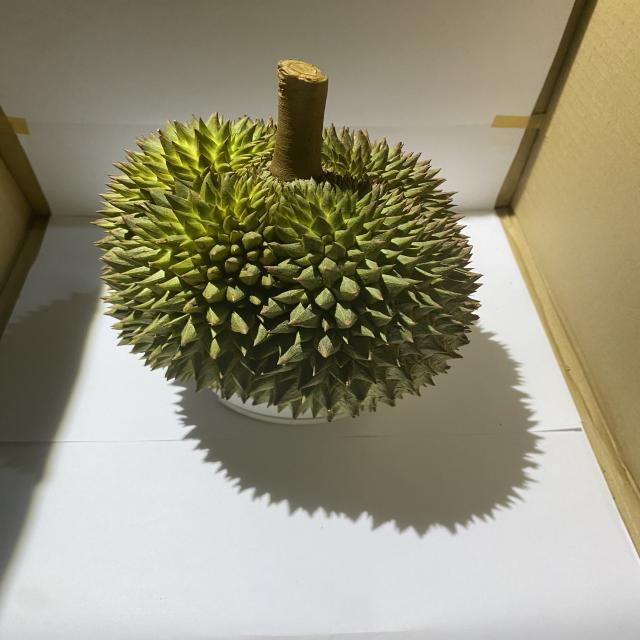immature: (94, 107, 491, 427)
